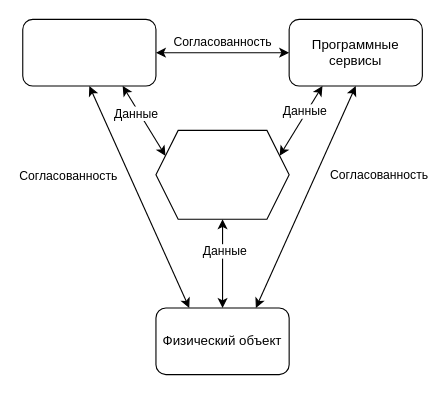
The diagram is 447 pixels wide and 394 high, and some of its shapes have lost their labels. The centre of each missing label's shape, as x and y in pixels:
Информационная модель ЦД: [222,174]
Математическая модель: [89,52]
